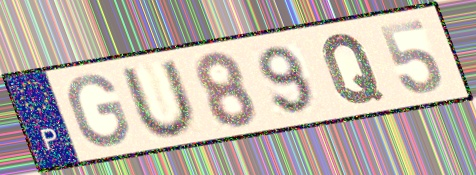5: (375, 17, 446, 96)
8: (193, 49, 261, 130)
9: (255, 42, 317, 116)
G: (65, 72, 133, 149)
Q: (320, 31, 388, 107)
U: (116, 56, 203, 139)
